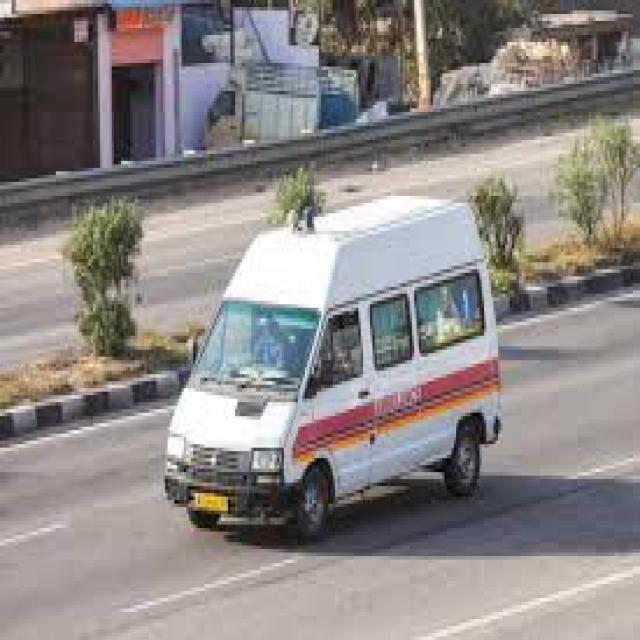ambulance: (321, 476, 445, 553), (454, 171, 524, 297), (275, 168, 314, 220), (219, 521, 293, 546), (333, 171, 368, 203)
